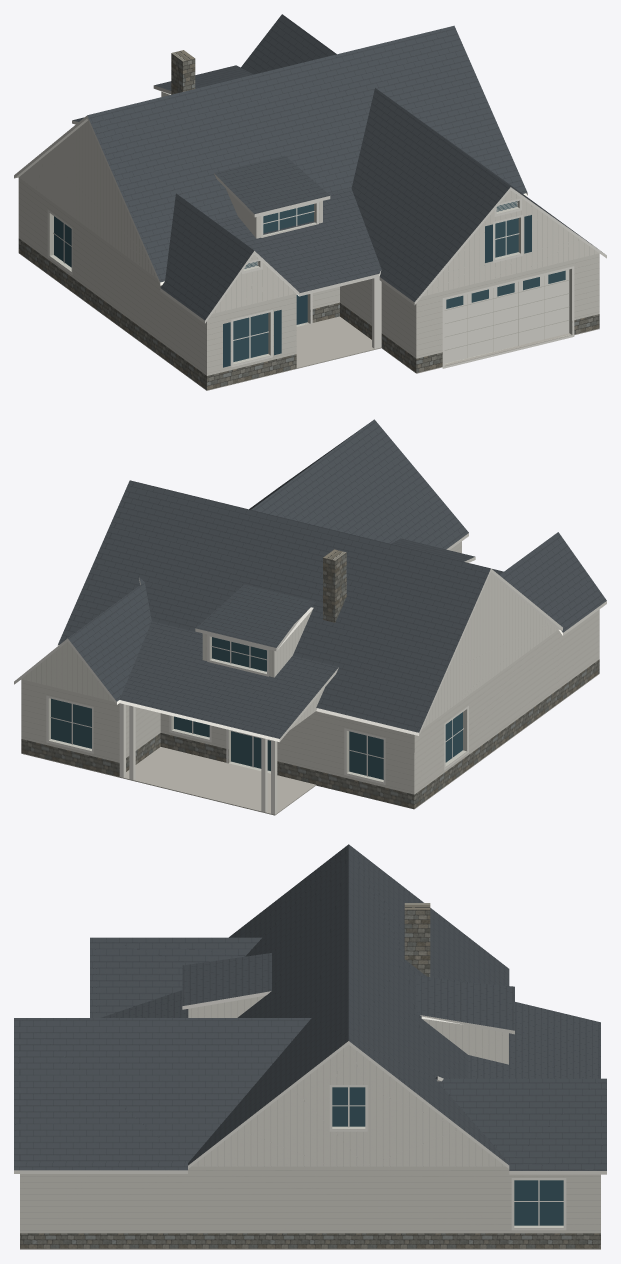
3 renders of one model, top to bottom at view 1: azimuth 30°, elevation 25°; view 2: azimuth 150°, elevation 25°; view 3: azimuth 270°, elevation 25°, orthographic. The views are drawn at different scales.
Parts seen in each view (by area): view 1: Fairy_Part_04, Left, Fairy_Part_08, Front, Opening_Front_Garage, Fairy_Part_09, Front_Left_Room_Facade, House_Roof_Thickness_Eaves_04, Fairy_Part_27, Front_Left_Room_Left_Return, Opening_Front_Porch_Window, Front_Porch_Deck (+13 smaller); view 2: Fairy_Part_00, Left, Back (×2), Fairy_Part_08, Fairy_Part_02, Restored house floor, Fairy_Part_03, Fairy_Part_13, Fairy_Part_09, Fairy_Part_05, Front_Left_Room_Left_Return, House_Roof_Thickness_Eaves_00 (+14 smaller); view 3: right, Fairy_Part_17, Fairy_Part_04, Fairy_Part_00, Fairy_Part_12, Fairy_Part_07, Fairy_Part_02, Fairy_Part_03, Opening_Right_Lower_Window, House_Roof_Thickness_Eaves_17, House_Roof_Thickness_Eaves_04, Opening_Right_Upper_Window (+5 smaller).
Part boxes in pixels (x1=…): Fairy_Part_04: x1=92, y1=27, x2=522, y2=289; Left: x1=18, y1=121, x2=164, y2=358; Fairy_Part_08: x1=351, y1=88, x2=507, y2=294; Front: x1=416, y1=190, x2=599, y2=372; Opening_Front_Garage: x1=442, y1=266, x2=574, y2=368; Fairy_Part_09: x1=165, y1=193, x2=251, y2=311; Front_Left_Room_Facade: x1=207, y1=293, x2=296, y2=389; House_Roof_Thickness_Eaves_04: x1=87, y1=25, x2=527, y2=296; Fairy_Part_27: x1=340, y1=279, x2=416, y2=372; Front_Left_Room_Left_Return: x1=165, y1=295, x2=206, y2=389; Opening_Front_Porch_Window: x1=223, y1=309, x2=281, y2=367; Front_Porch_Deck: x1=296, y1=316, x2=373, y2=367; Fairy_Part_00: x1=65, y1=481, x2=486, y2=731; Left: x1=414, y1=574, x2=558, y2=808; Back (×2): x1=21, y1=642, x2=414, y2=808; Fairy_Part_08: x1=251, y1=421, x2=461, y2=547; Fairy_Part_02: x1=119, y1=621, x2=334, y2=737; Restored house floor: x1=21, y1=673, x2=599, y2=815; Fairy_Part_03: x1=202, y1=584, x2=315, y2=677; Fairy_Part_13: x1=70, y1=582, x2=151, y2=699; Fairy_Part_09: x1=499, y1=534, x2=599, y2=624; Fairy_Part_05: x1=160, y1=711, x2=316, y2=784; Front_Left_Room_Left_Return: x1=558, y1=609, x2=599, y2=702; House_Roof_Thickness_Eaves_00: x1=57, y1=480, x2=490, y2=735; right: x1=20, y1=1044, x2=600, y2=1248; Fairy_Part_17: x1=20, y1=1018, x2=311, y2=1162; Fairy_Part_04: x1=101, y1=847, x2=348, y2=1161; Fairy_Part_00: x1=348, y1=847, x2=509, y2=1162; Fairy_Part_12: x1=435, y1=1078, x2=600, y2=1162; Fairy_Part_07: x1=96, y1=937, x2=261, y2=1017; Fairy_Part_02: x1=468, y1=1004, x2=600, y2=1078; Fairy_Part_03: x1=416, y1=975, x2=508, y2=1064; Opening_Right_Lower_Window: x1=511, y1=1178, x2=566, y2=1230; House_Roof_Thickness_Eaves_17: x1=14, y1=1018, x2=187, y2=1173; House_Roof_Thickness_Eaves_04: x1=182, y1=844, x2=348, y2=1168; Opening_Right_Upper_Window: x1=329, y1=1085, x2=367, y2=1131.
Size of what is drawn, in the model's own units: 14076 by 7299 by 17937.
10 materials, 5 textured.
